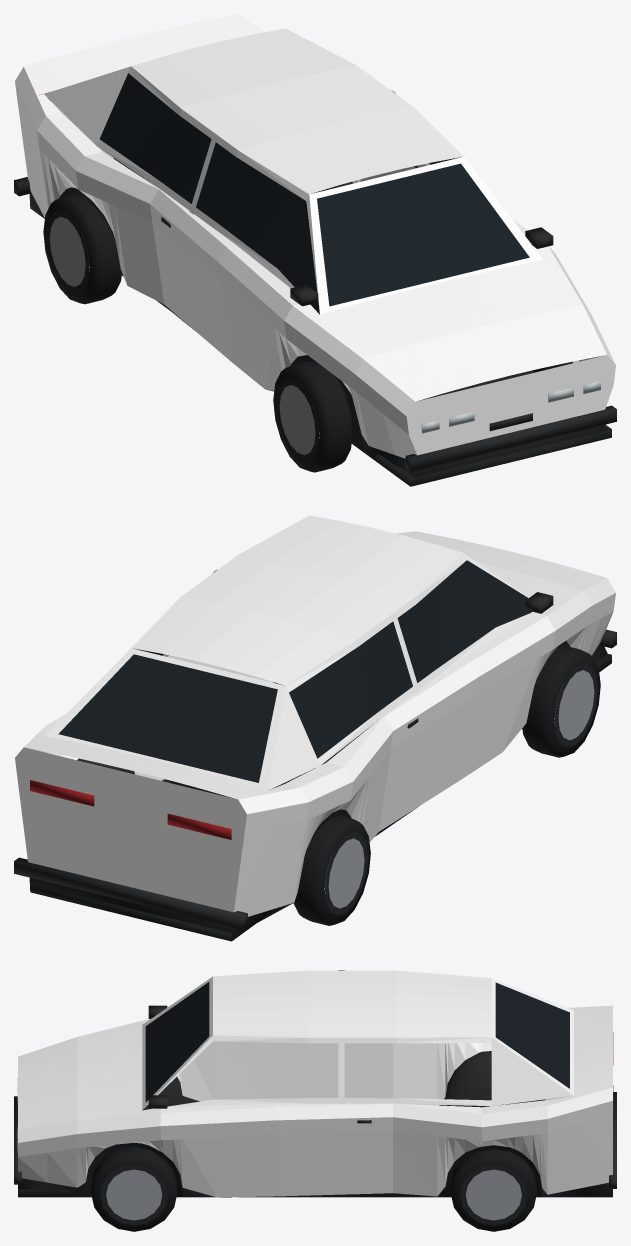
The model's file is volnar_brisa.glb.
3 renders of one model, top to bottom at view 1: azimuth 30°, elevation 25°; view 2: azimuth 150°, elevation 25°; view 3: azimuth 270°, elevation 25°, orthographic. The views are drawn at different scales.
Visible parts, largest first — view 1: Body_Paint, Body_Details, Mount_FrontLeft_Wheel_Details, Mount_RearLeft_Wheel_Details; view 2: Body_Paint, Body_Details, Mount_FrontLeft_Wheel_Details, Mount_RearLeft_Wheel_Details; view 3: Body_Paint, Body_Details, Mount_FrontRight_Wheel_Details, Mount_RearRight_Wheel_Details.
Boxes of the visible parts, box(x1,y1,x2,y2) form: Body_Paint: box(15, 14, 615, 458); Body_Details: box(14, 73, 616, 486); Mount_FrontLeft_Wheel_Details: box(273, 360, 352, 472); Mount_RearLeft_Wheel_Details: box(43, 193, 121, 304); Body_Paint: box(15, 515, 615, 916); Body_Details: box(14, 560, 616, 941); Mount_FrontLeft_Wheel_Details: box(522, 645, 600, 757); Mount_RearLeft_Wheel_Details: box(293, 815, 370, 925); Body_Paint: box(18, 970, 612, 1197); Body_Details: box(14, 982, 616, 1197); Mount_FrontRight_Wheel_Details: box(91, 1146, 177, 1231); Mount_RearRight_Wheel_Details: box(450, 1149, 537, 1231).
Bounding box in the file's own units: 1.74 × 1.37 × 4.18.
Materials: 2 (1 with a texture image).
